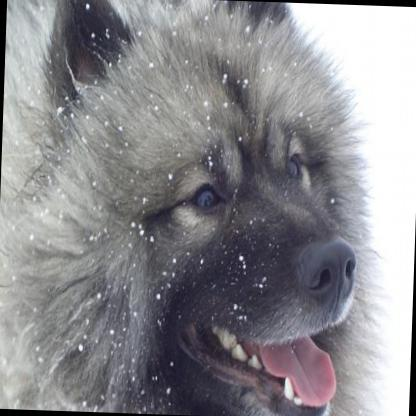keeshond: (0, 0, 365, 416)
